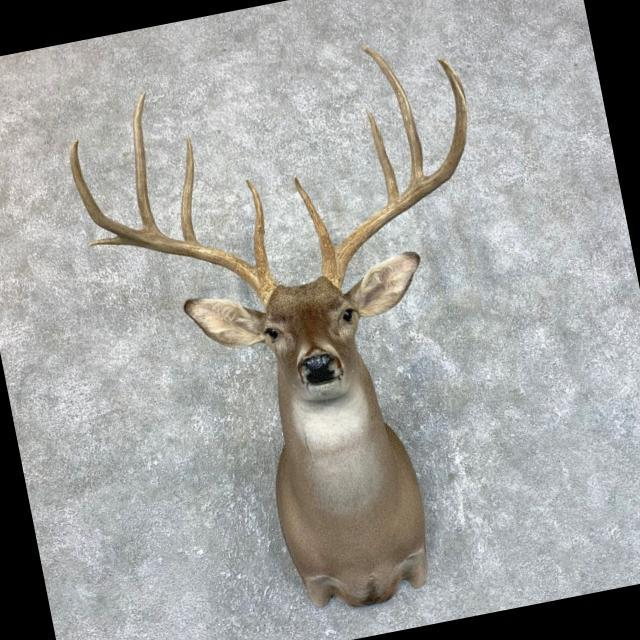E1: (89, 236, 131, 247)
L-F: (321, 74, 467, 292)
L-G1: (294, 176, 336, 266)
L-G2: (365, 109, 399, 203)
L-G3: (361, 46, 425, 184)
R-F: (70, 139, 278, 308)
R-G1: (244, 178, 270, 274)
R-G2: (181, 133, 199, 244)
R-G3: (133, 91, 158, 230)
